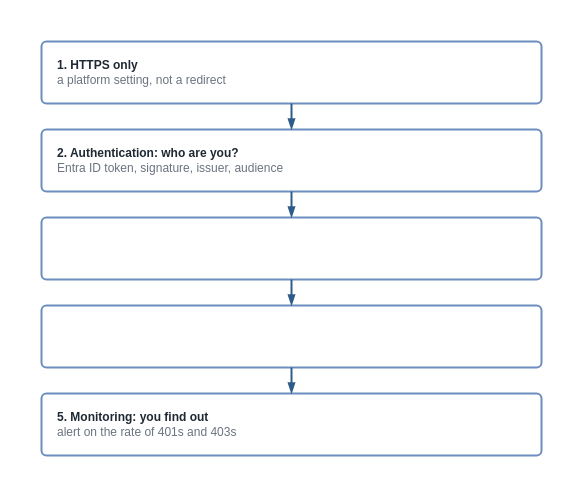
This 582x496 diagram has some shape labels left out. The shapes that lost their labels are listed below. From the top down, each one's box as (x1, y1, x2, y2) in pixels, then its label:
(40, 216, 542, 280): 3. Authorization: what may you do? owner check, fallback policy fails closed
(40, 304, 542, 368): 4. Secrets: nothing in config Key Vault and a managed identity
